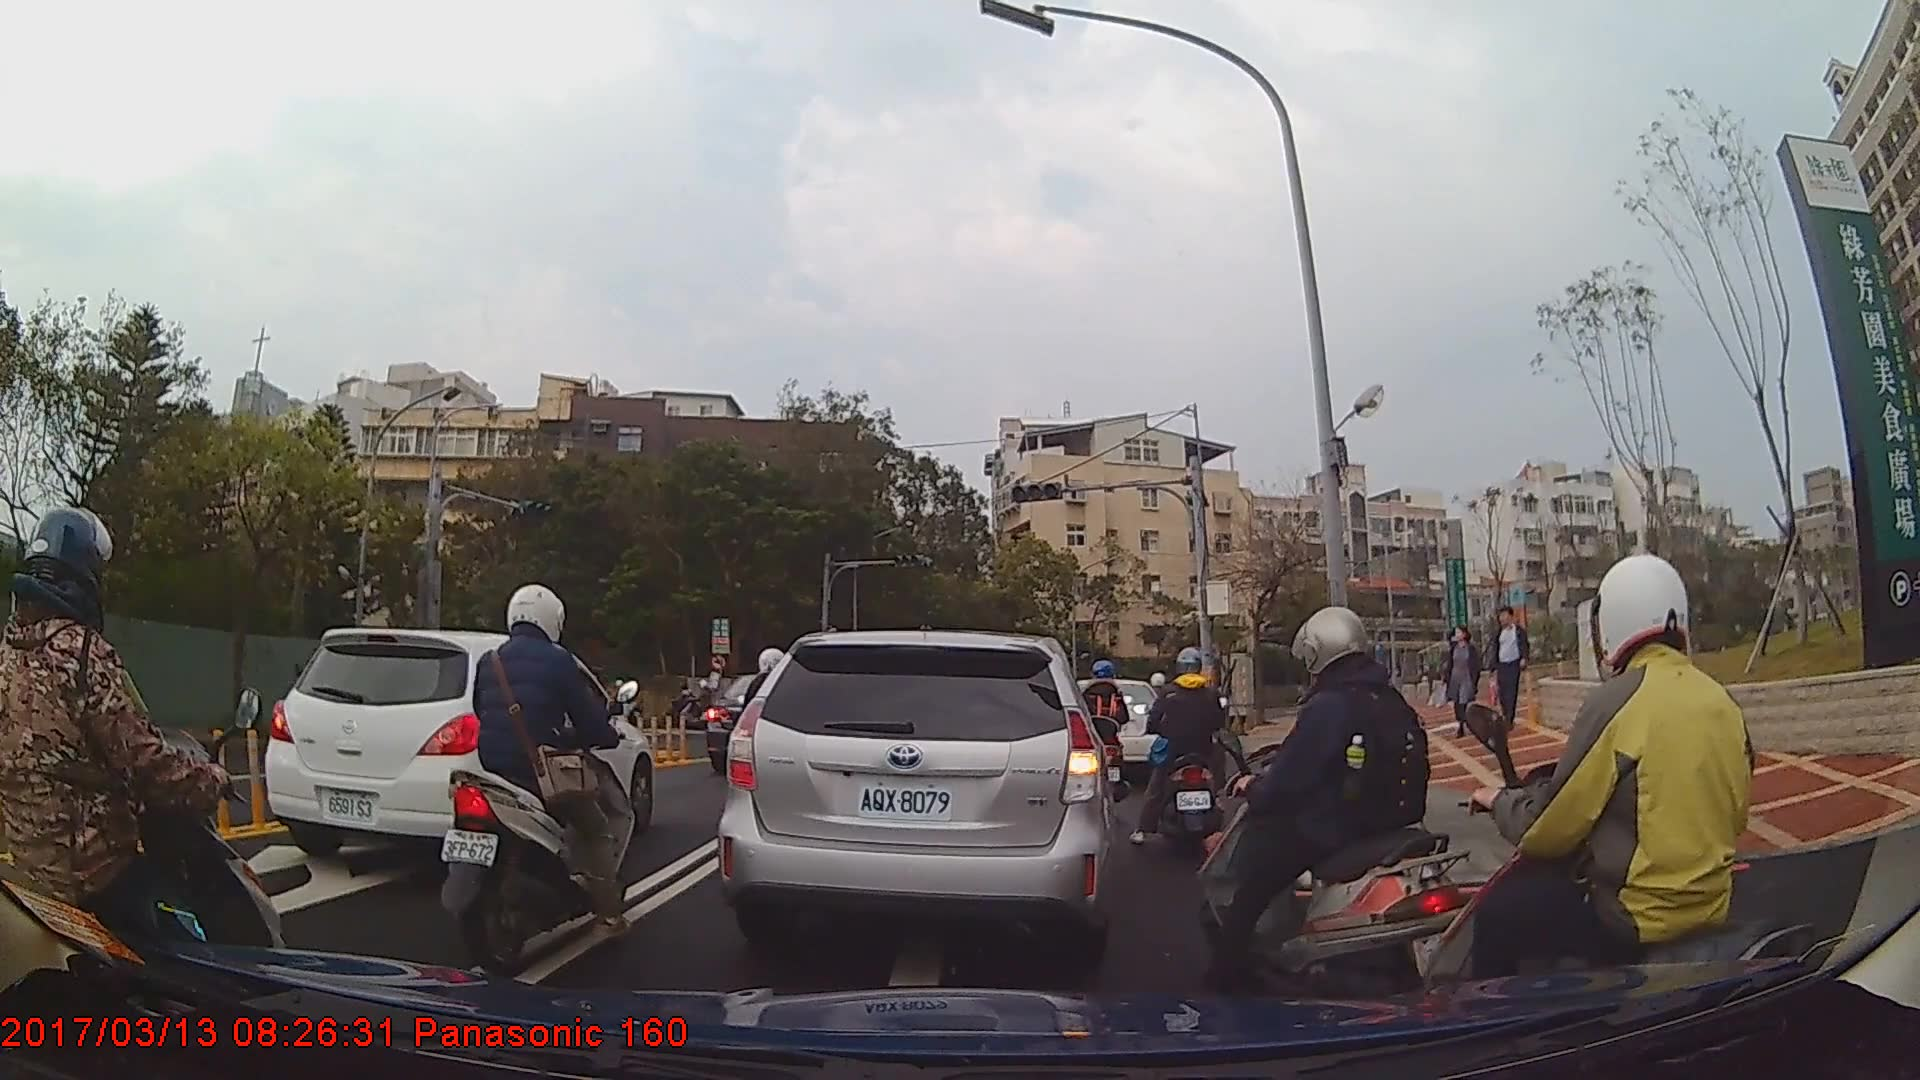pedestrian: (1488, 606, 1535, 738), (1445, 626, 1488, 738)
rider: (1410, 550, 1844, 1079), (1, 507, 291, 1031), (1191, 606, 1480, 1013), (445, 584, 647, 965), (1137, 642, 1236, 864), (734, 642, 813, 854), (1066, 658, 1134, 811)
vehicle: (712, 626, 1117, 962), (264, 626, 650, 867), (706, 673, 826, 777), (1061, 677, 1174, 787)
